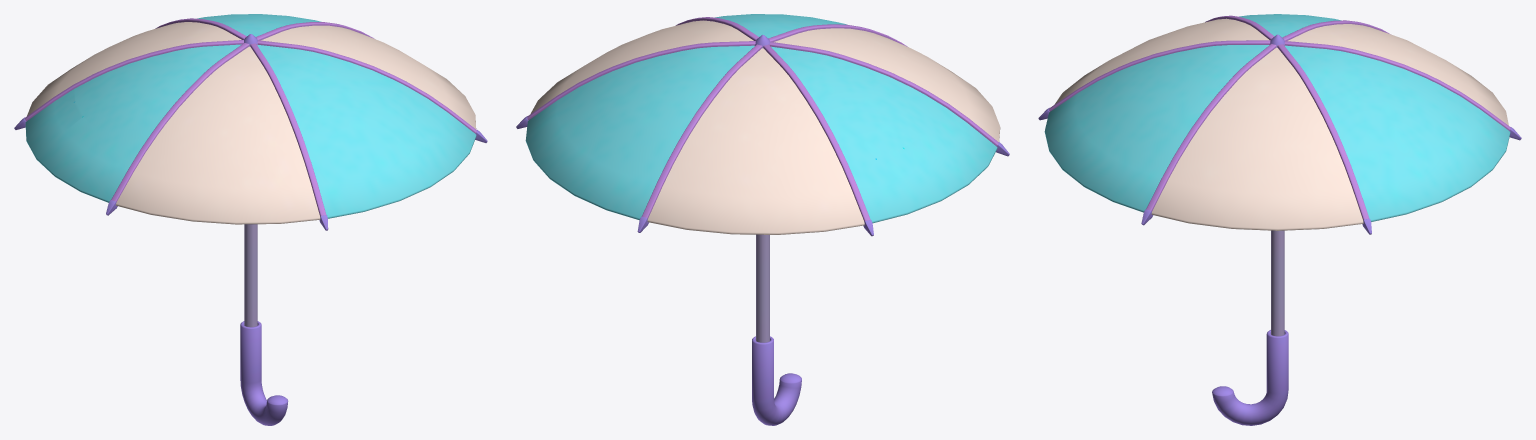
Rendered from Umbrella.fbx.
3 views of the same model, side by side, from view 1: azimuth 30°, elevation 25°; view 2: azimuth 150°, elevation 25°; view 3: azimuth 270°, elevation 25° (orthographic). The views are drawn at different scales.
Visible parts, largest first — view 1: Top, Handle, Shaft; view 2: Top, Handle, Shaft, Decor; view 3: Top, Handle, Shaft.
Boxes of the visible parts, box(x1,y1,x2,y2) form: Top: box(25, 14, 476, 224); Handle: box(240, 321, 288, 425); Shaft: box(244, 44, 257, 327); Top: box(525, 14, 1000, 234); Handle: box(752, 336, 801, 425); Shaft: box(755, 45, 769, 342); Decor: box(516, 116, 1009, 236); Top: box(1044, 14, 1510, 230); Handle: box(1212, 330, 1288, 425); Shaft: box(1270, 44, 1284, 336).
Size of the model in its own units: 4270 by 3945 by 4427.
